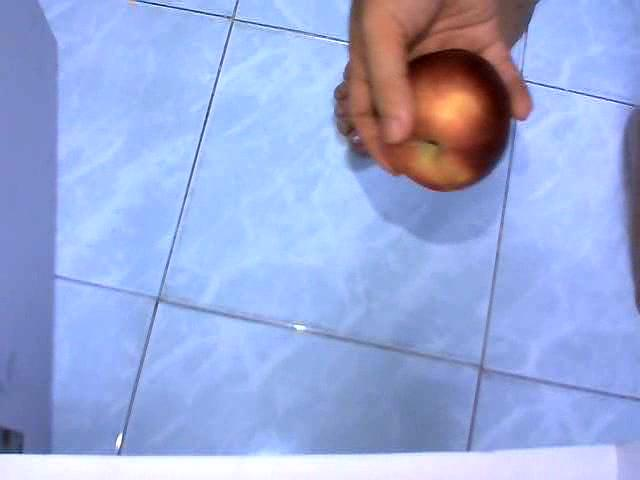apple: (381, 47, 512, 193)
